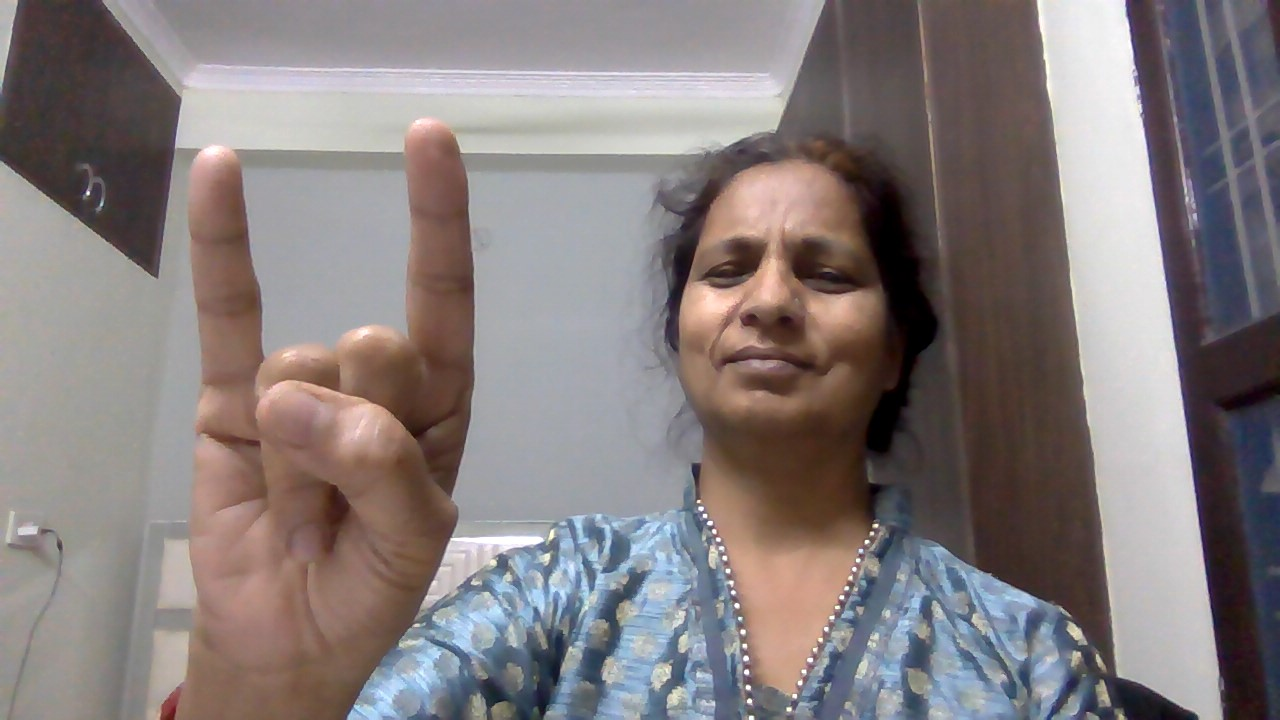Select All: (144, 111, 497, 700)
